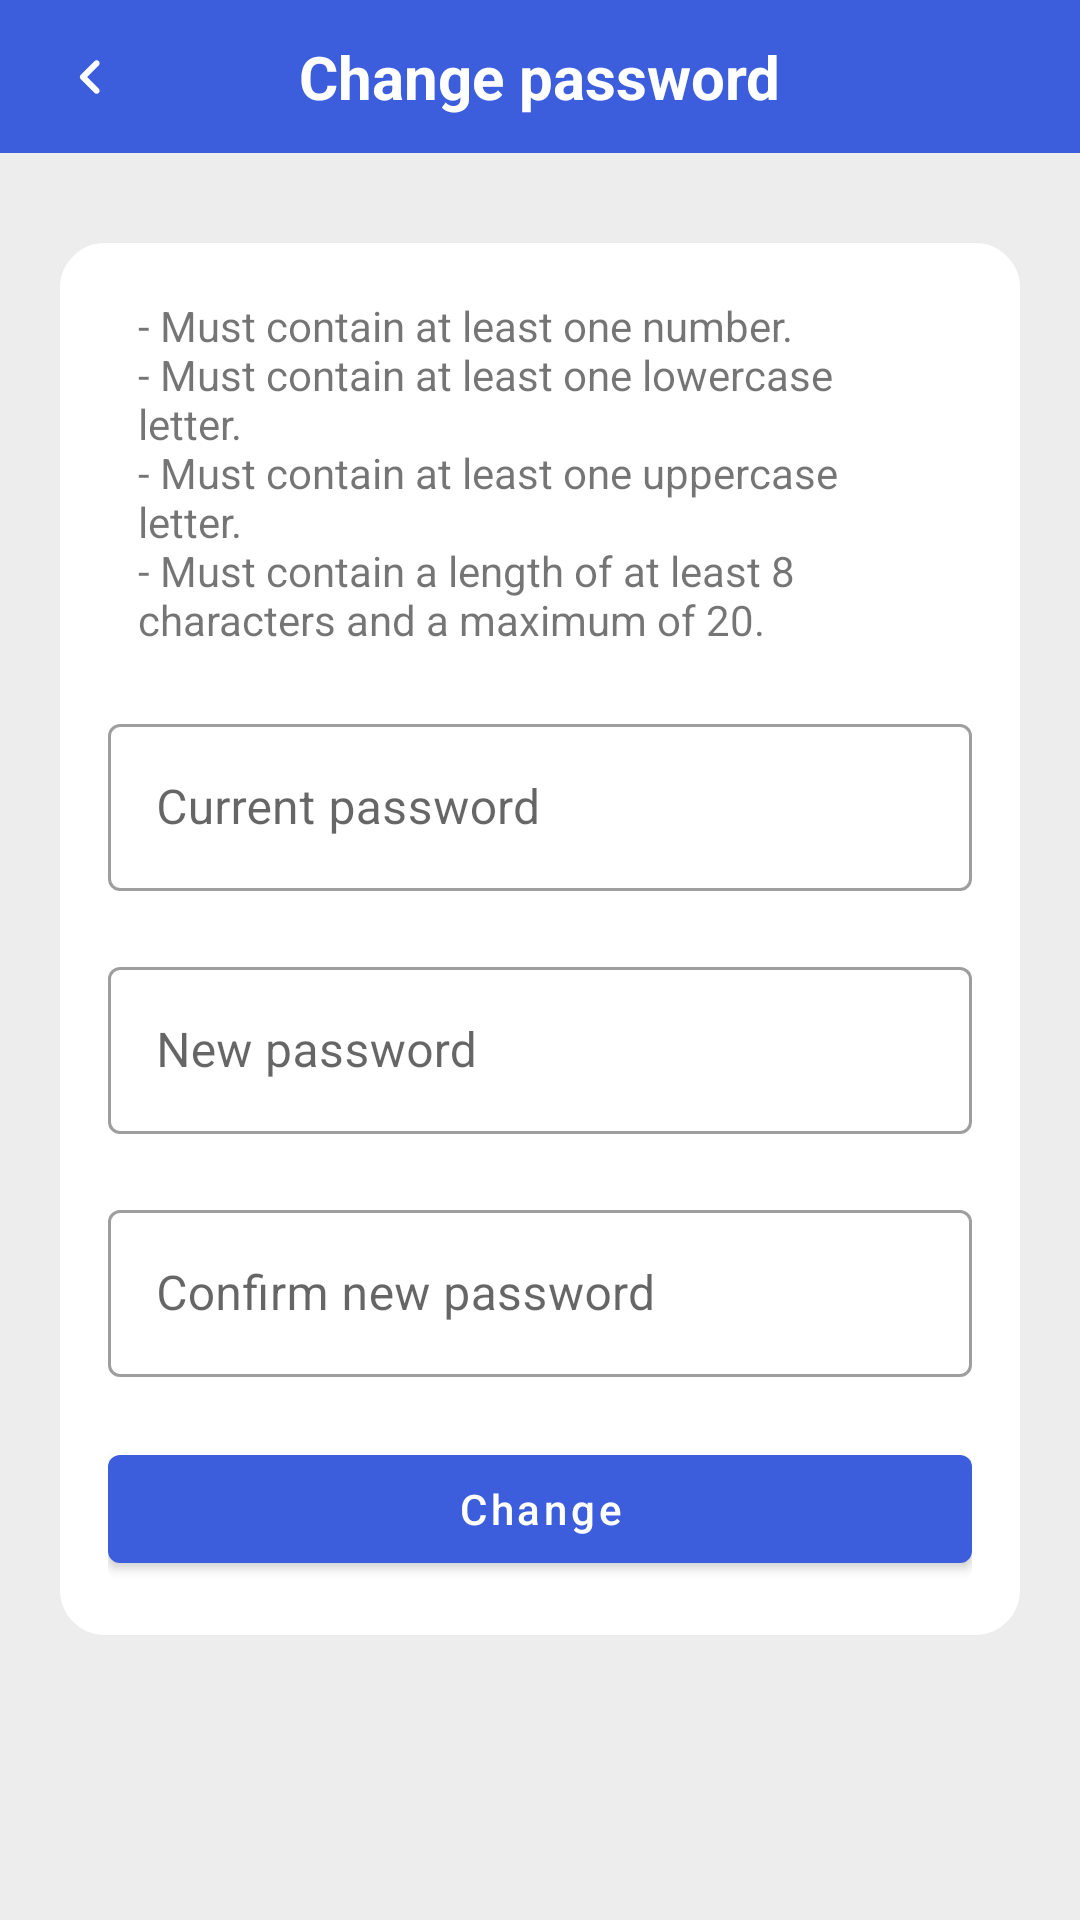

Icons on this 1080x1920 Android screen, each with its box as (x1, y1, x2, y2):
navigate before: (80, 60, 100, 94)
